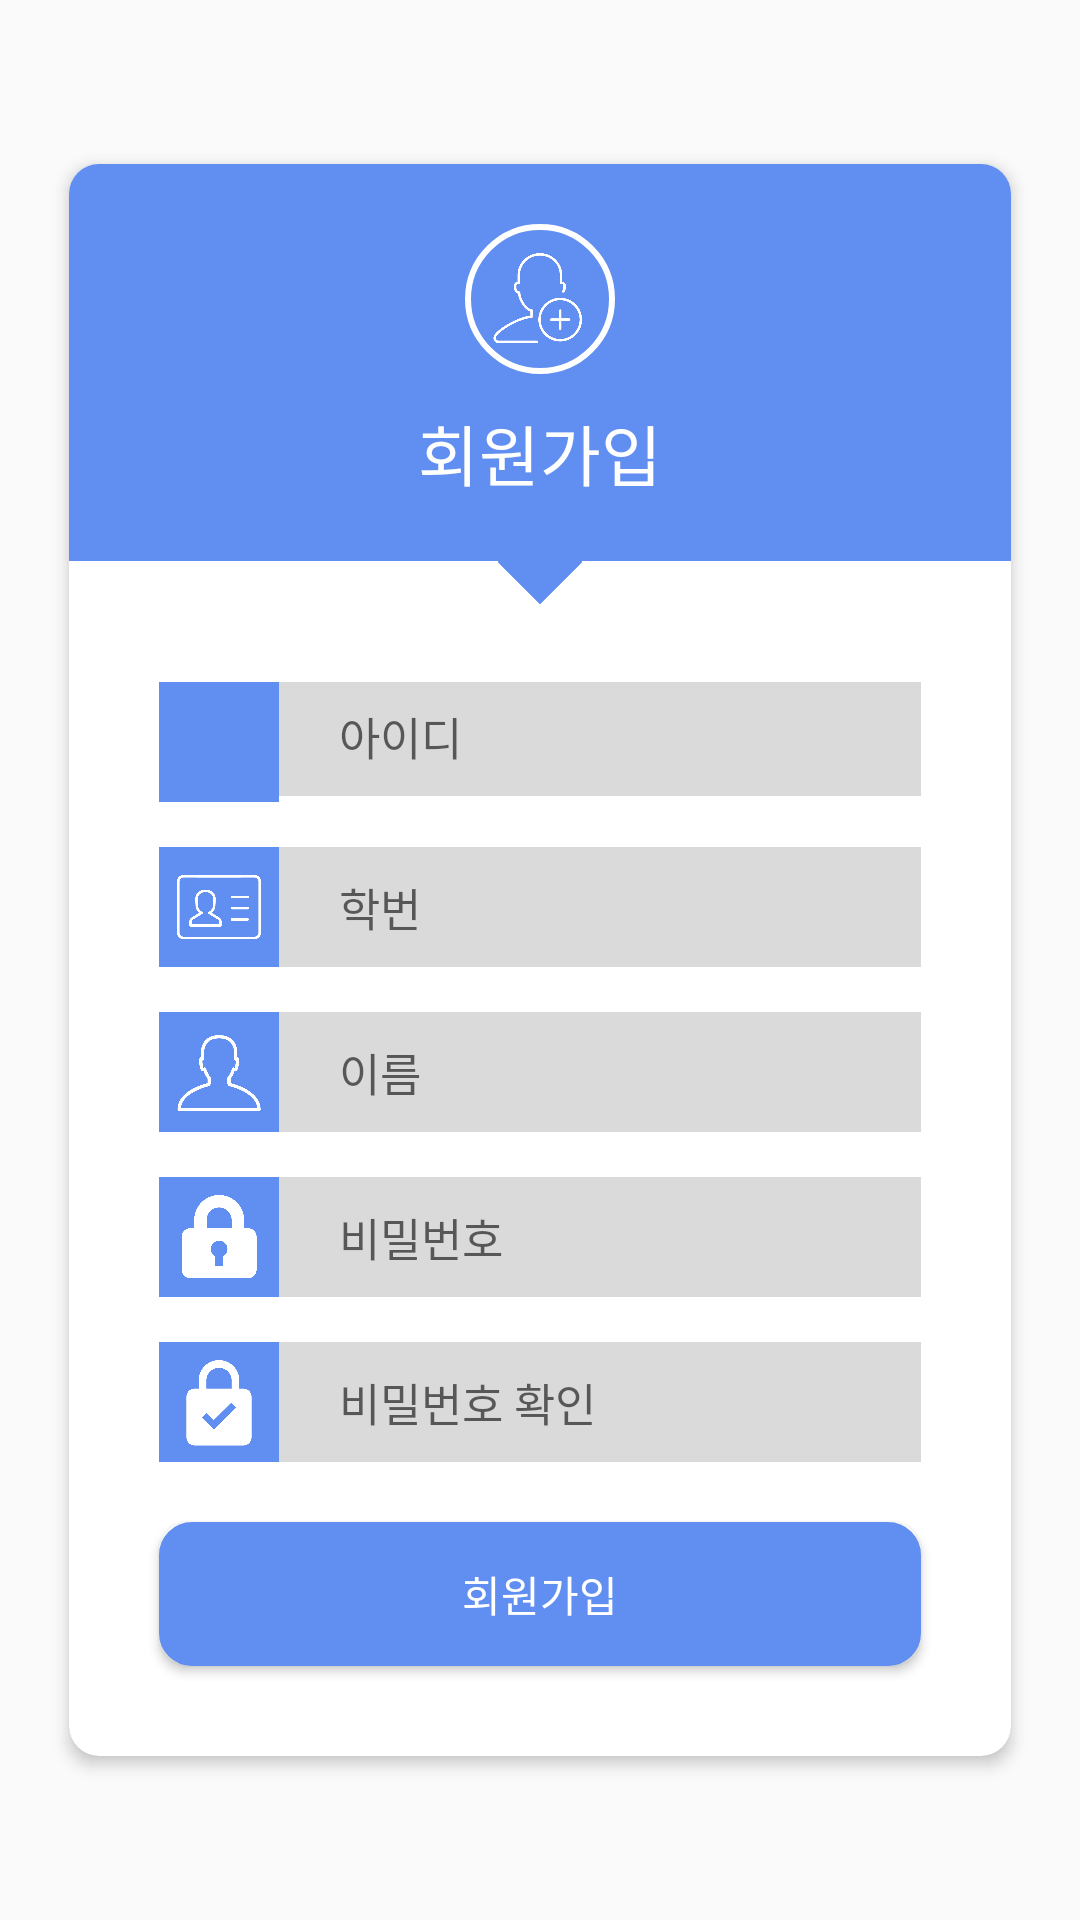

Icon bounding boxes for this 1080px x 1920px phone screenshot, format [x1,y1,x2,y2]:
checkpw: [159,1342,279,1462]
passwd: [159,1177,279,1297]
signup: [465,224,615,374]
